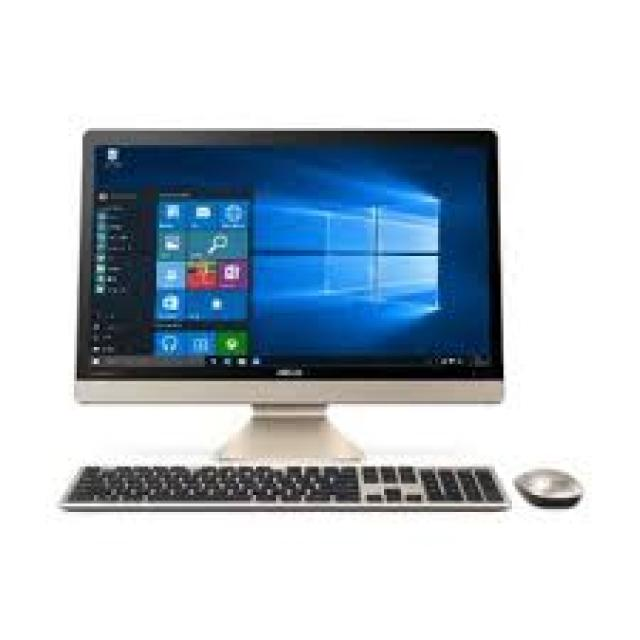komputer: (72, 132, 507, 467)
